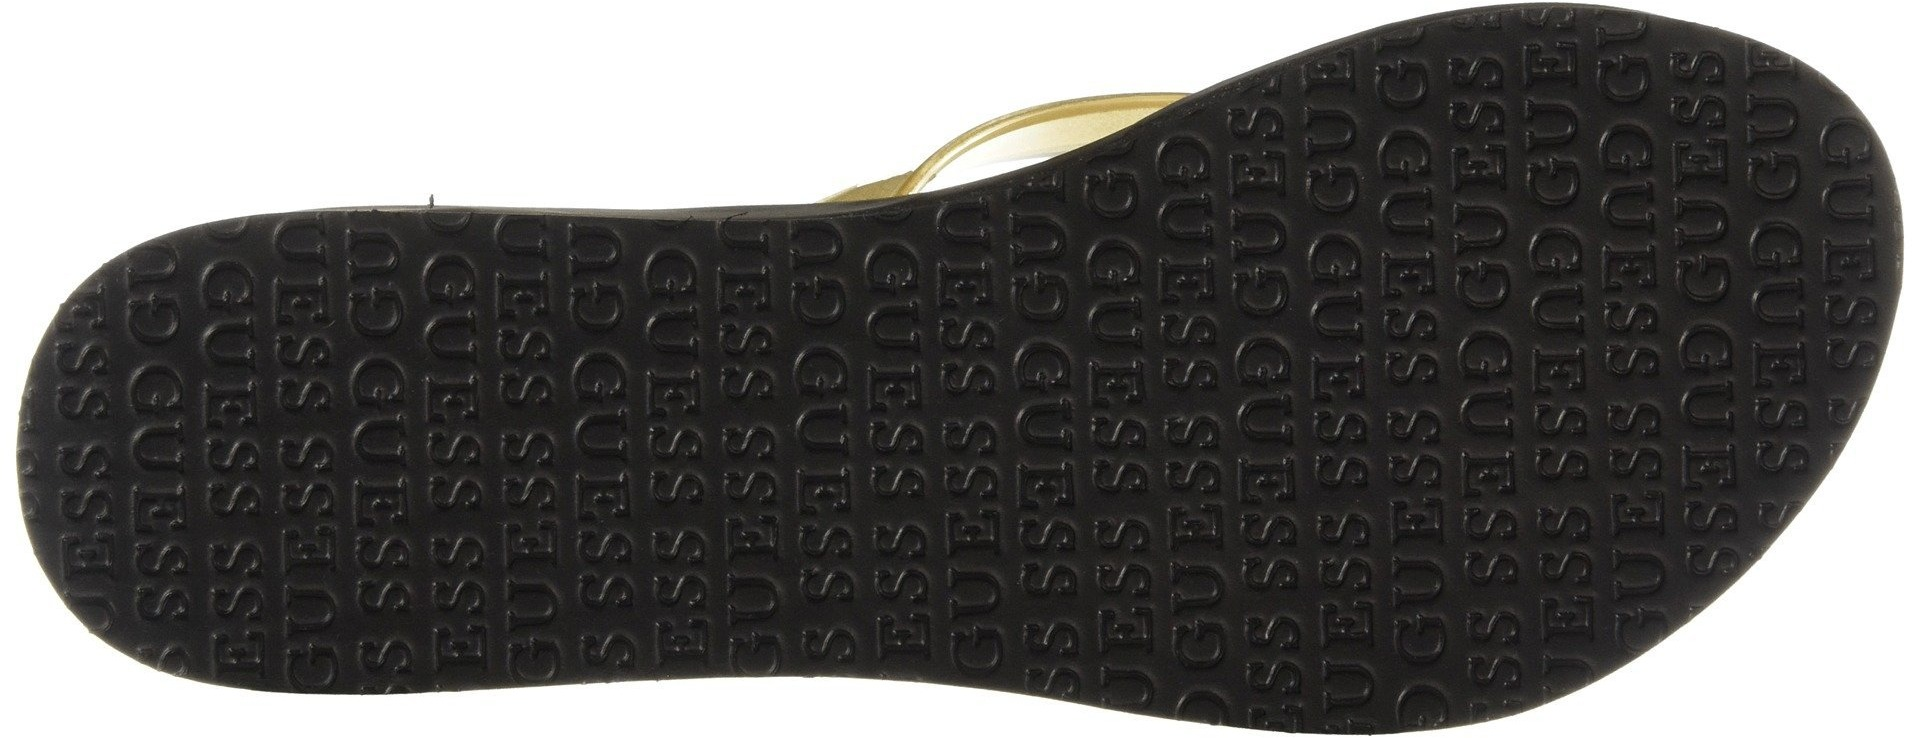text: (1405, 57, 1661, 357), (782, 415, 1065, 677), (1080, 420, 1339, 699), (296, 242, 556, 507), (1163, 133, 1394, 355), (63, 324, 295, 537), (1355, 357, 1558, 592), (566, 242, 772, 450), (569, 457, 776, 666), (1682, 155, 1886, 357), (952, 209, 1154, 405), (1571, 378, 1747, 560), (776, 233, 950, 403), (305, 514, 467, 679), (159, 546, 288, 675)
